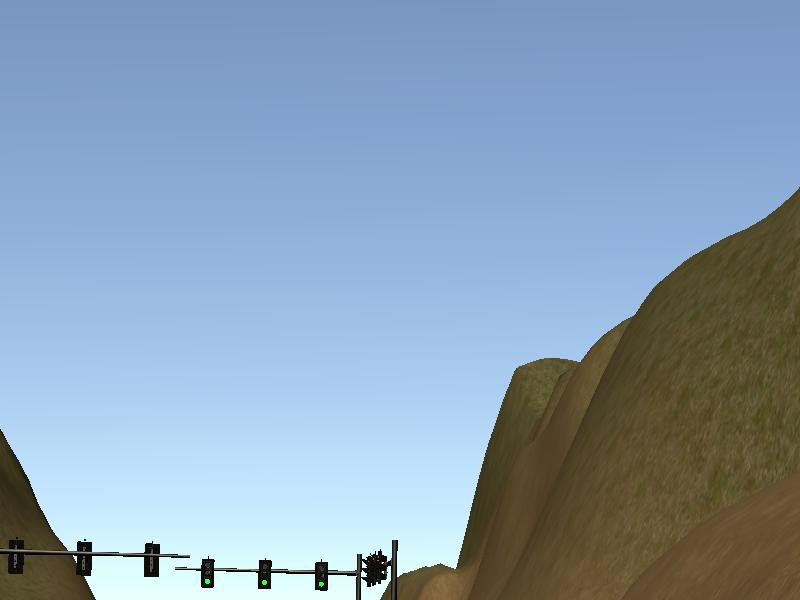green: (258, 558, 271, 588), (315, 561, 328, 591), (203, 559, 214, 589)
